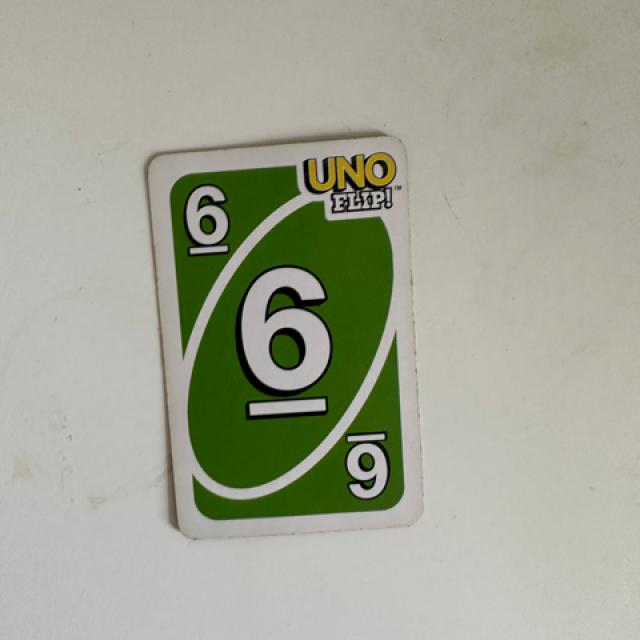lgreen-6: (164, 164, 250, 274)
